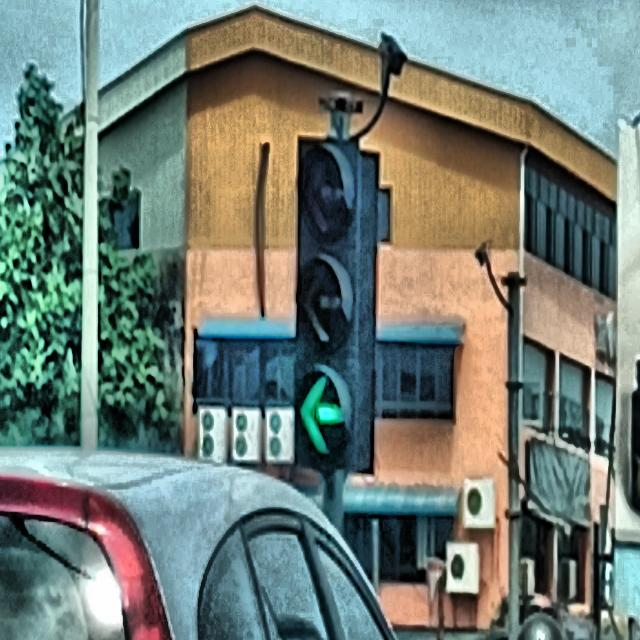green: (294, 136, 360, 460)
